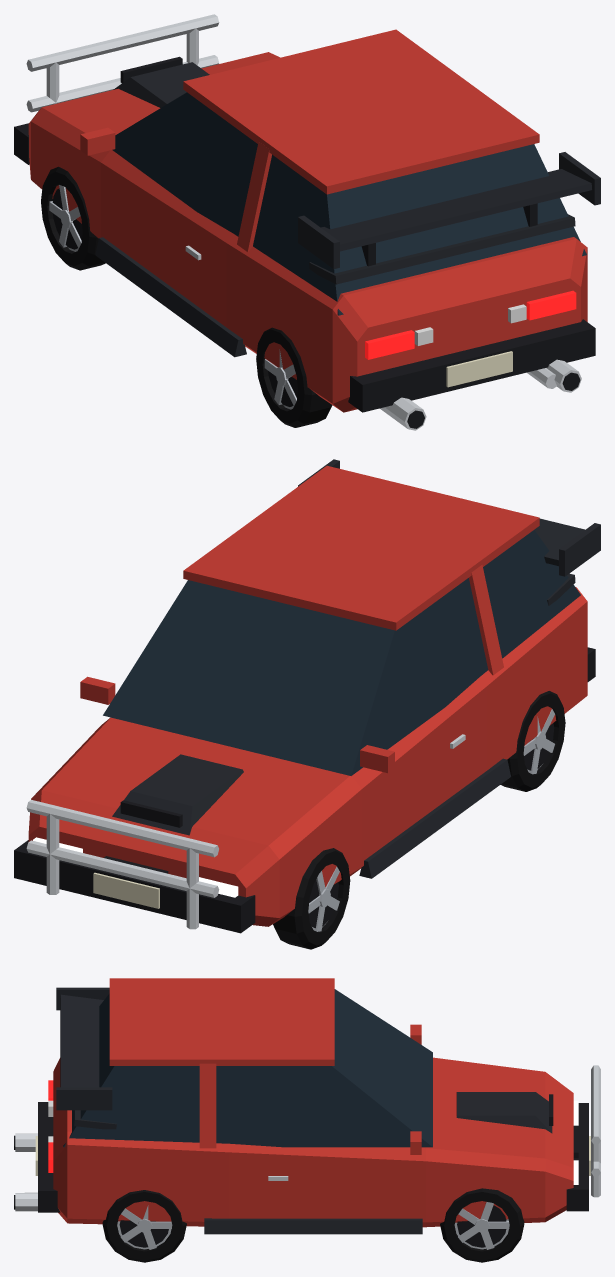
File: compact.glb
The picture shows the model from 3 angles, top to bottom: view 1: azimuth 30°, elevation 25°; view 2: azimuth 150°, elevation 25°; view 3: azimuth 270°, elevation 25°; orthographic projection. The views are drawn at different scales.
Visible parts, largest first — view 1: compact_Top, compact_Body, compact_Mod_Spoiler2, compact_Mod_Bullbar, compact_Wheel_RL, compact_Wheel_FL, compact_Mod_Skirts, compact_Mod_Spoiler1, compact_Mod_Scoop, compact_Mod_Exhaust; view 2: compact_Top, compact_Body, compact_Mod_Bullbar, compact_Mod_Scoop, compact_Wheel_FL, compact_Wheel_RL, compact_Mod_Skirts, compact_Mod_Spoiler2; view 3: compact_Top, compact_Body, compact_Mod_Spoiler2, compact_Wheel_FR, compact_Wheel_RR, compact_Mod_Skirts, compact_Mod_Scoop, compact_Mod_Bullbar, compact_Mod_Exhaust, compact_Mod_Spoiler1.
Boxes of the visible parts, bbox=[...] form: compact_Top: bbox=[14, 29, 595, 412]; compact_Body: bbox=[28, 52, 587, 412]; compact_Mod_Spoiler2: bbox=[298, 152, 600, 268]; compact_Mod_Bullbar: bbox=[26, 14, 219, 112]; compact_Wheel_RL: bbox=[256, 327, 332, 427]; compact_Wheel_FL: bbox=[41, 166, 105, 270]; compact_Mod_Skirts: bbox=[95, 237, 246, 357]; compact_Mod_Spoiler1: bbox=[309, 214, 575, 284]; compact_Mod_Scoop: bbox=[113, 56, 209, 107]; compact_Mod_Exhaust: bbox=[380, 359, 581, 430]; compact_Top: bbox=[14, 465, 595, 933]; compact_Body: bbox=[28, 587, 587, 926]; compact_Mod_Bullbar: bbox=[26, 799, 219, 929]; compact_Mod_Scoop: bbox=[112, 754, 243, 835]; compact_Wheel_FL: bbox=[273, 848, 350, 949]; compact_Wheel_RL: bbox=[500, 691, 565, 791]; compact_Mod_Skirts: bbox=[359, 758, 510, 878]; compact_Mod_Spoiler2: bbox=[298, 459, 600, 576]; compact_Top: bbox=[25, 978, 590, 1212]; compact_Body: bbox=[53, 1057, 573, 1227]; compact_Mod_Spoiler2: bbox=[56, 987, 112, 1110]; compact_Wheel_FR: bbox=[440, 1188, 524, 1262]; compact_Wheel_RR: bbox=[102, 1190, 186, 1262]; compact_Mod_Skirts: bbox=[204, 1218, 422, 1234]; compact_Mod_Scoop: bbox=[456, 1092, 553, 1133]; compact_Mod_Bullbar: bbox=[591, 1065, 600, 1197]; compact_Mod_Exhaust: bbox=[14, 1133, 37, 1211]; compact_Mod_Spoiler1: bbox=[74, 1110, 116, 1129].
Size of the model in its own units: 1.98 by 1.53 by 4.18.
